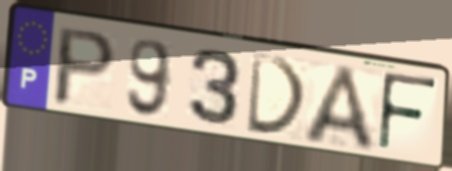3: (186, 46, 246, 129)
9: (125, 38, 175, 120)
A: (299, 62, 380, 155)
D: (244, 51, 311, 139)
F: (375, 69, 441, 157)
P: (49, 24, 120, 109)
